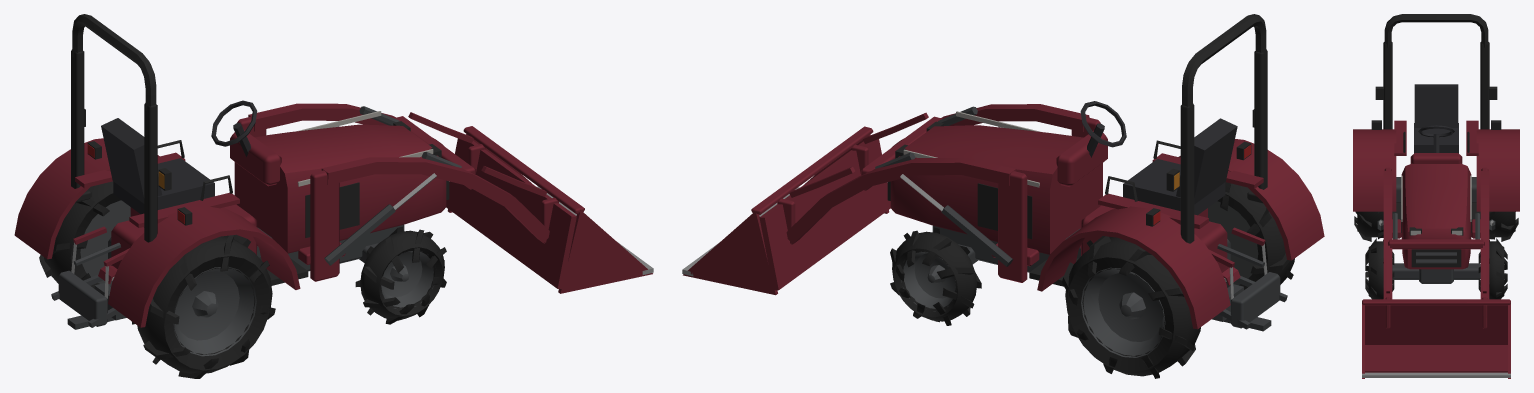
File: SM_Prop_farm_tractor_compact_1_LOD1.glb
3 views of the same model, side by side, from view 1: azimuth 30°, elevation 25°; view 2: azimuth 150°, elevation 25°; view 3: azimuth 270°, elevation 25° (orthographic). The views are drawn at different scales.
Parts seen in each view (by area): view 1: SM_Prop_farm_tractor_compact_1_LOD1; view 2: SM_Prop_farm_tractor_compact_1_LOD1; view 3: SM_Prop_farm_tractor_compact_1_LOD1.
Part boxes in pixels (x1,y1,x2,y2): SM_Prop_farm_tractor_compact_1_LOD1: (14, 14, 653, 378); SM_Prop_farm_tractor_compact_1_LOD1: (682, 14, 1324, 378); SM_Prop_farm_tractor_compact_1_LOD1: (1353, 14, 1519, 378).
Size of the model in its own units: 3.9 by 2.23 by 1.62.
